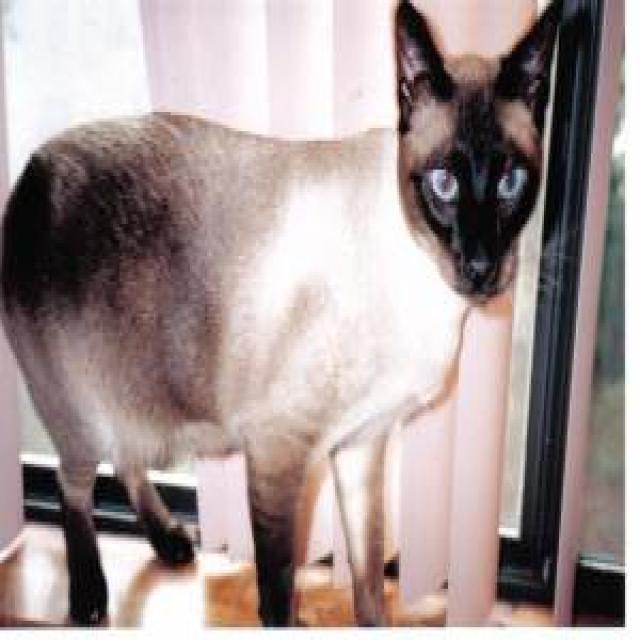Siamese: (386, 0, 562, 313)
